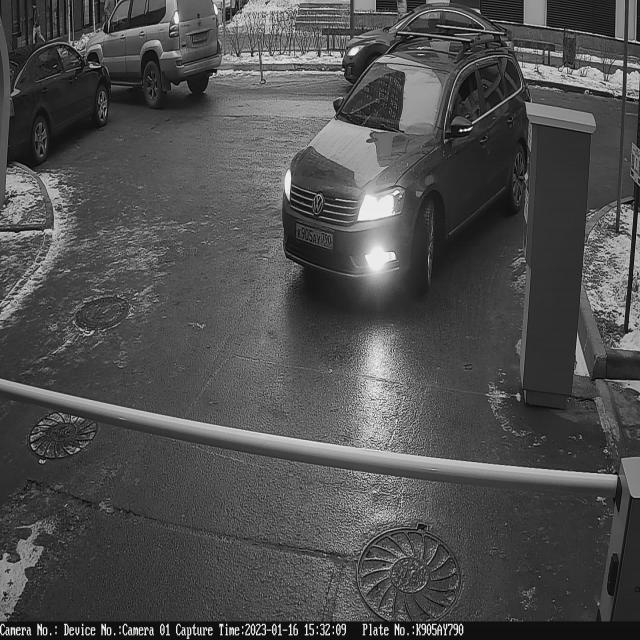car-plate-numbers: (296, 220, 336, 252)
